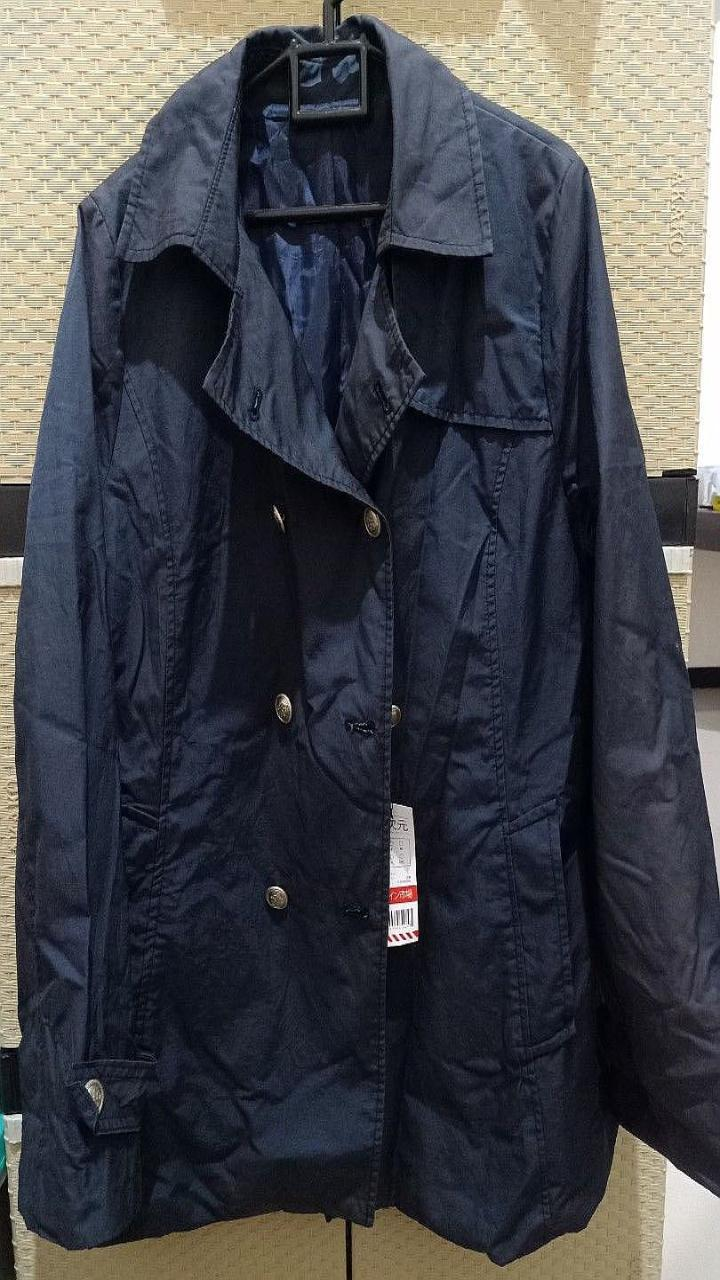Coat: (14, 15, 719, 1263)
